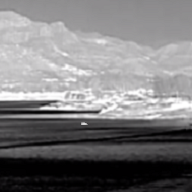Target: (80, 122, 88, 126)
